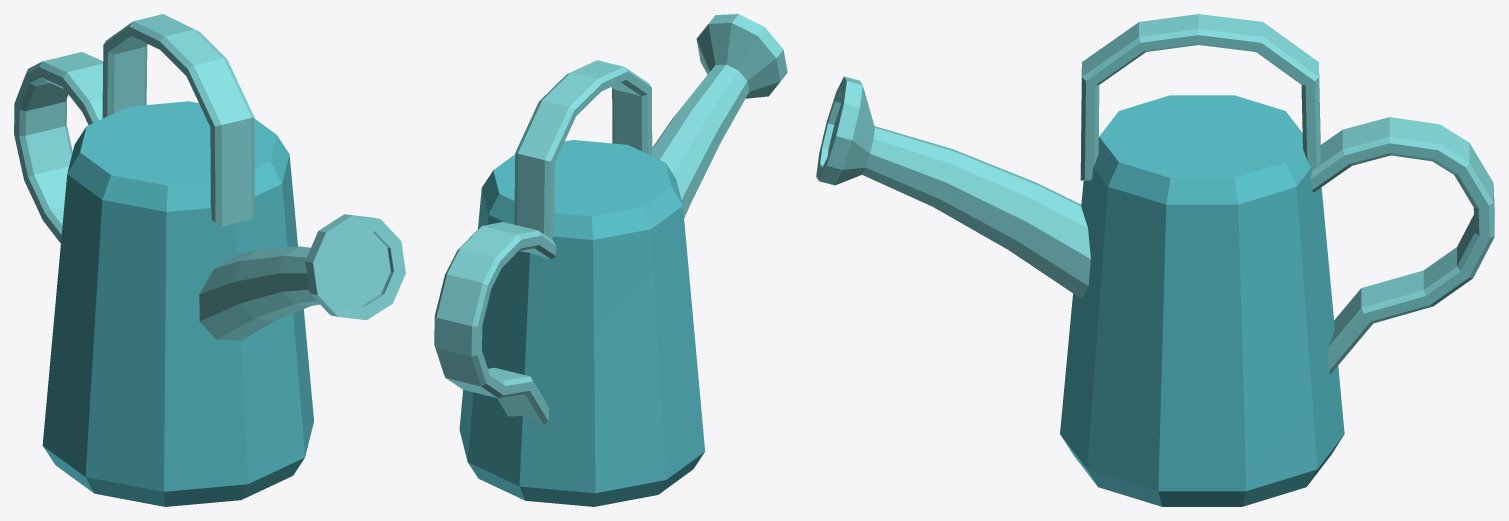
File: watersprinkler_a.gltf
3 views of the same model, side by side, from view 1: azimuth 30°, elevation 25°; view 2: azimuth 150°, elevation 25°; view 3: azimuth 270°, elevation 25° (orthographic). The views are drawn at different scales.
Parts seen in each view (by area): view 1: watersprinkler_a001; view 2: watersprinkler_a001; view 3: watersprinkler_a001.
Part boxes in pixels (x1,y1,x2,y2): watersprinkler_a001: [14, 14, 405, 506]; watersprinkler_a001: [434, 14, 787, 506]; watersprinkler_a001: [816, 14, 1494, 506].
Size of the model in its own units: 0.2341 by 0.4135 by 0.5866.
Materials: 1 (1 with a texture image).
